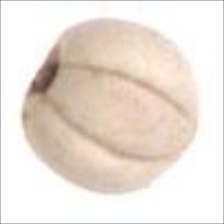L5: (50, 63, 196, 164), (23, 36, 66, 100)
L6: (22, 16, 197, 198)
